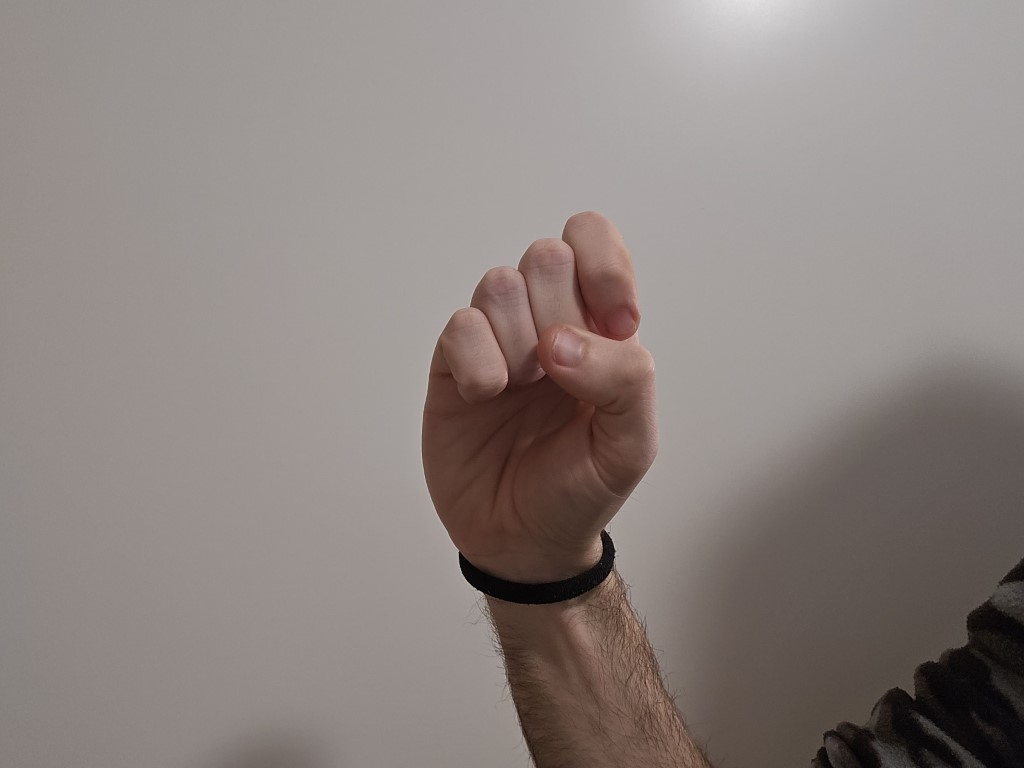s: (391, 191, 689, 575)
